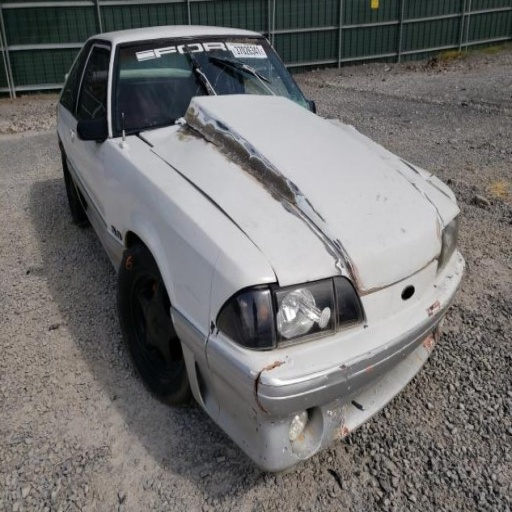rust: (176, 106, 298, 208), (253, 360, 288, 415), (345, 257, 387, 298), (327, 396, 353, 445), (420, 322, 442, 357), (297, 421, 315, 446), (425, 299, 443, 321), (413, 350, 423, 363), (339, 363, 351, 373)
scratch: (184, 282, 204, 306)
